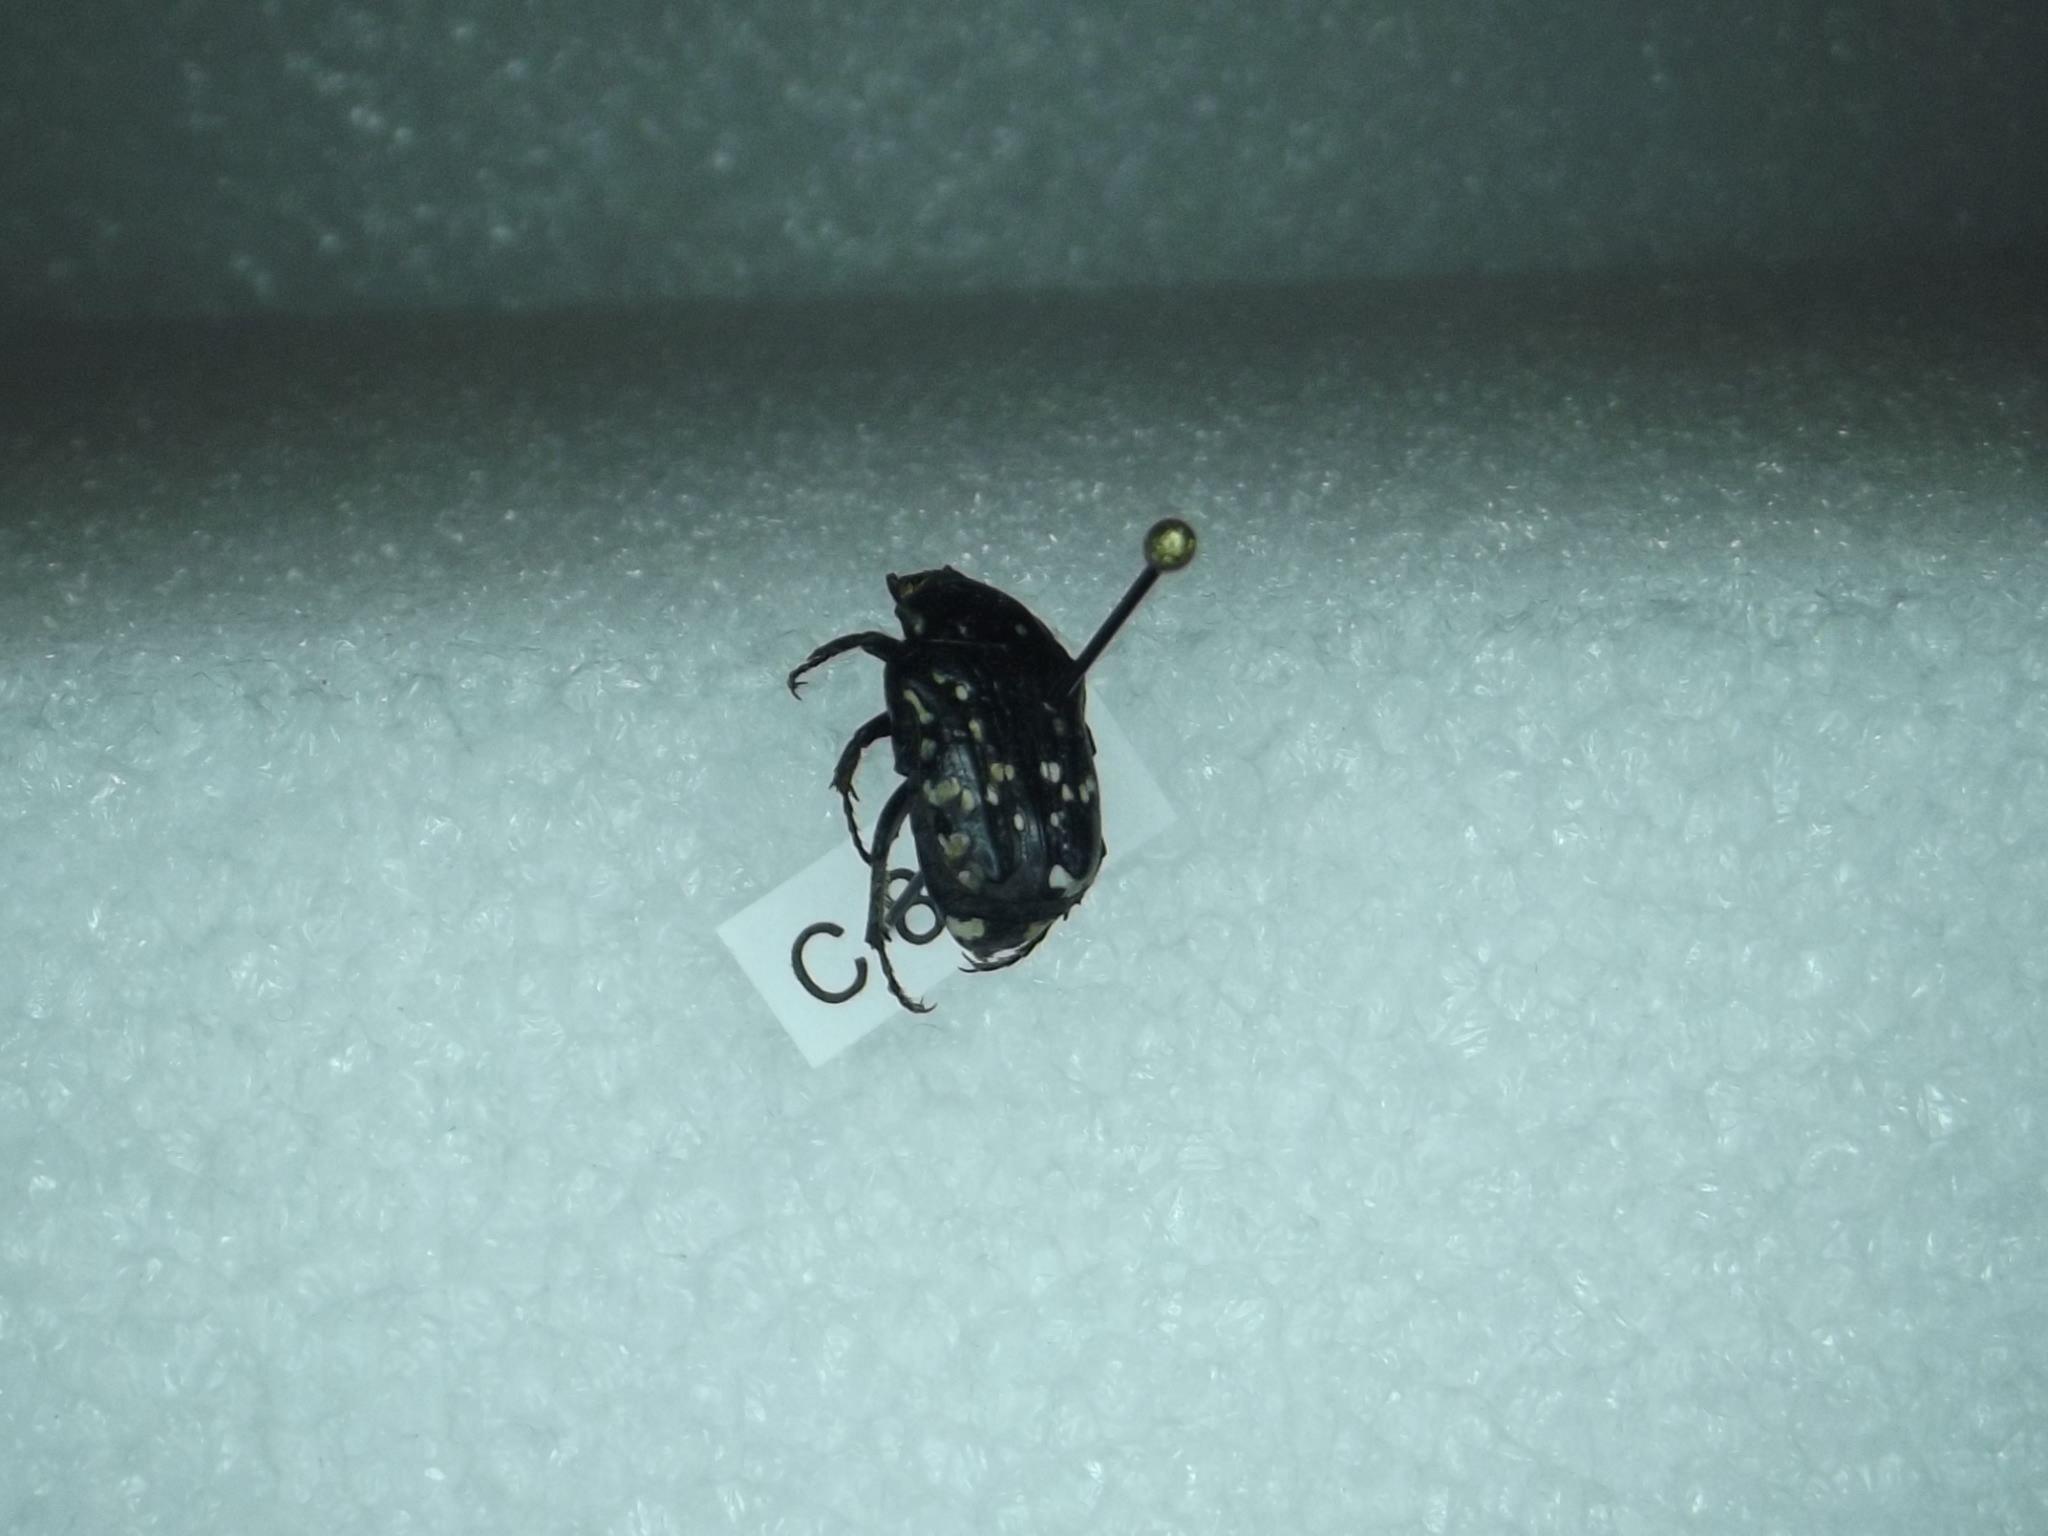Oxythyrea_albopicta: (785, 545, 1122, 989)
